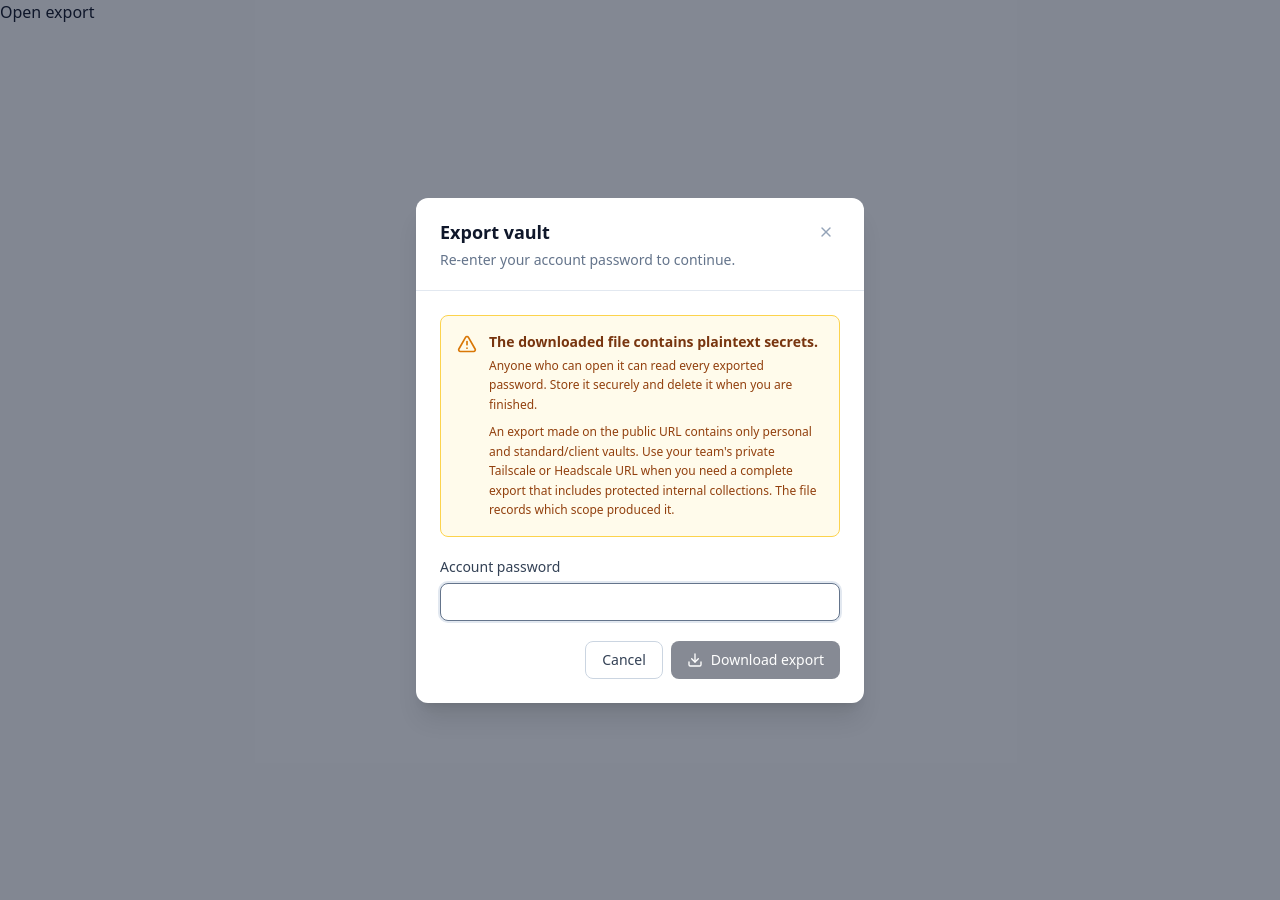
Scenario: vault export › downloads the returned Blob using the Content-Disposition filename
In the password field labelled "Account password": coordinates (640, 602) [440,582,840,620], type "correct-password"
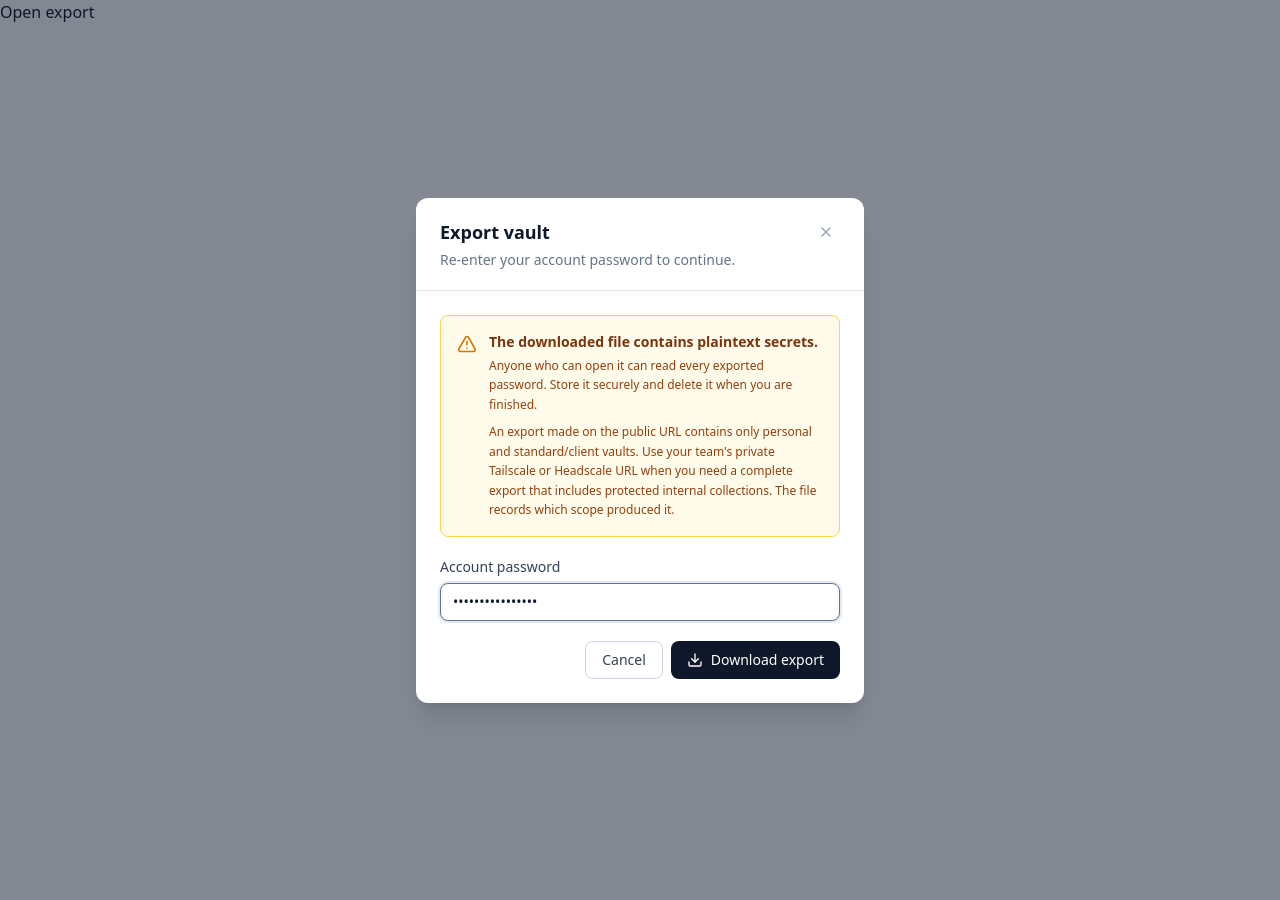
Click the button "Download export": coordinates (755, 660) [671,640,840,678]
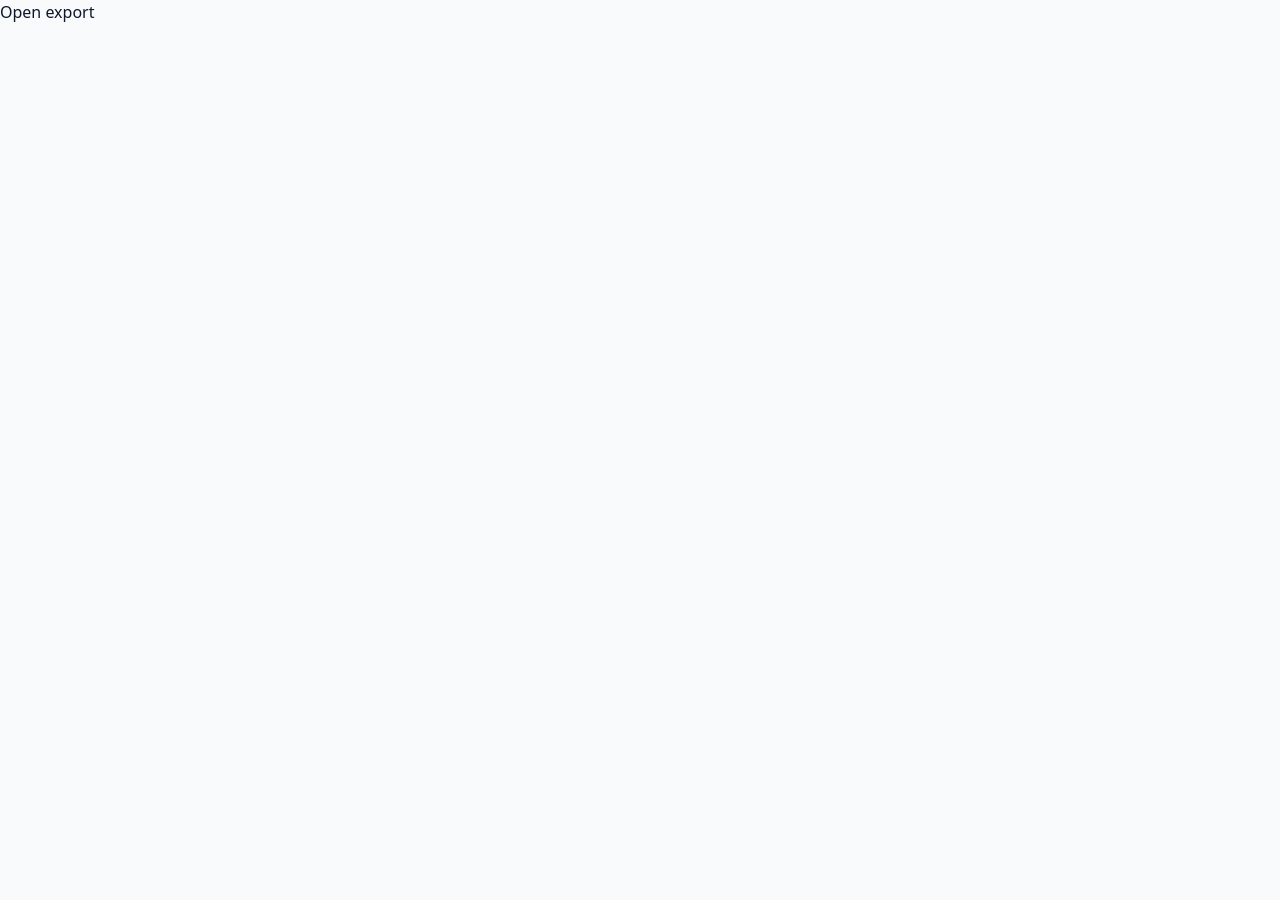
Check: the dialog is gone
